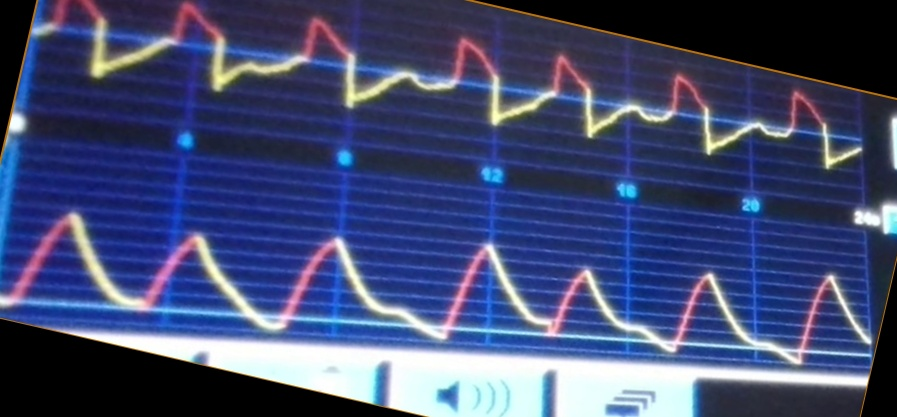Ineffective_effort Flow: (35, 1, 861, 169)
Ineffective_effort Volume: (5, 209, 867, 366)
